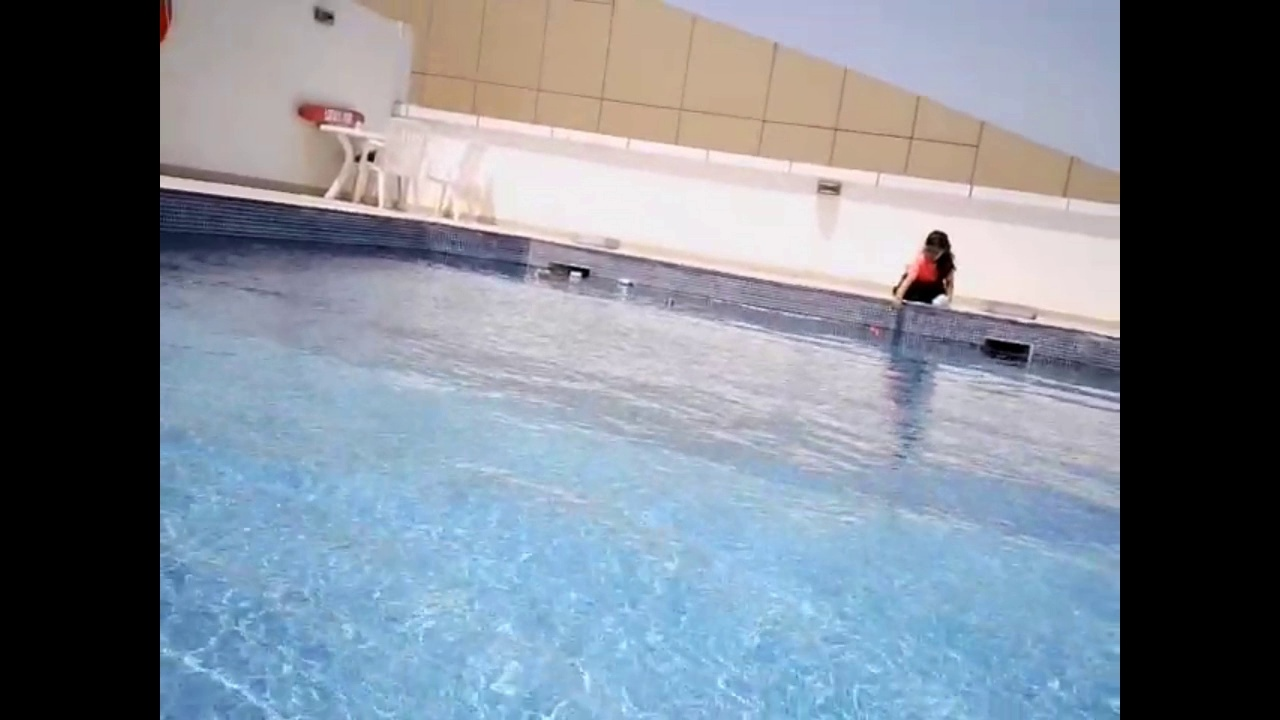debris: (864, 319, 882, 342), (532, 263, 553, 279), (612, 277, 635, 290), (566, 268, 584, 280), (660, 295, 673, 308)
